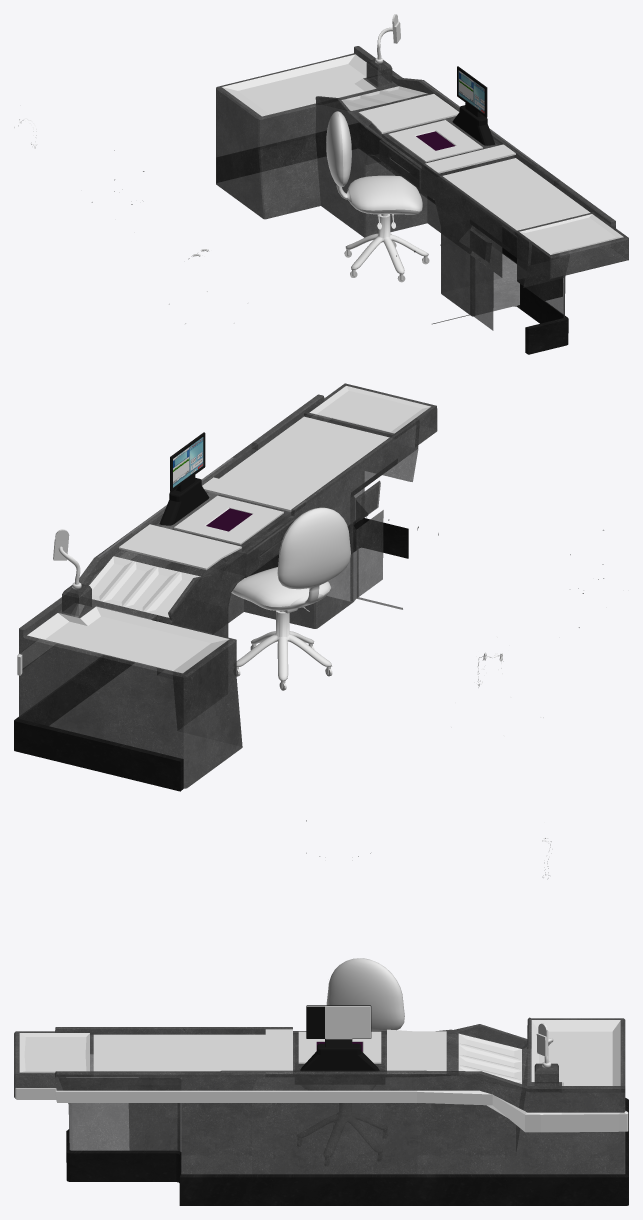
Rendered from Supermarket Checkout.fbx.
3 views of the same model, one above another, from view 1: azimuth 30°, elevation 25°; view 2: azimuth 150°, elevation 25°; view 3: azimuth 270°, elevation 25° (orthographic). The views are drawn at different scales.
Parts seen in each view (by area): view 1: Double Checkout; view 2: Double Checkout; view 3: Double Checkout.
Boxes of the visible parts, <box> form: Double Checkout: <box>14,14,628,354</box>; Double Checkout: <box>14,383,603,791</box>; Double Checkout: <box>14,820,628,1205</box>.
Size of the model in its own units: 887 by 376 by 1102.
Materials: 19 (4 with a texture image).
